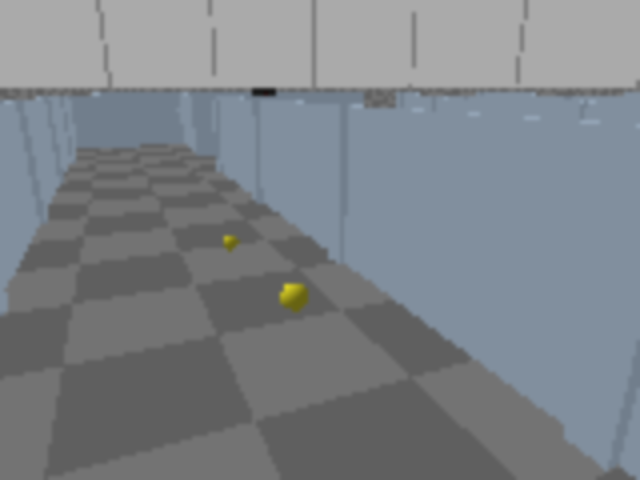puck: (275, 276, 313, 318), (219, 232, 241, 254)
